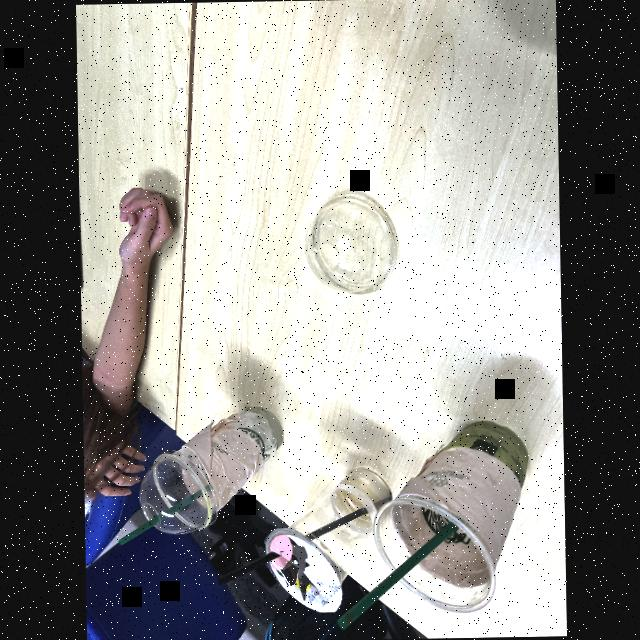plastic_cup: (369, 407, 520, 621), (266, 464, 388, 620), (159, 400, 280, 536)
plastic_cup_lid: (304, 192, 398, 303), (134, 448, 218, 541)
straw: (328, 520, 456, 632), (210, 504, 370, 586), (119, 487, 200, 548)
